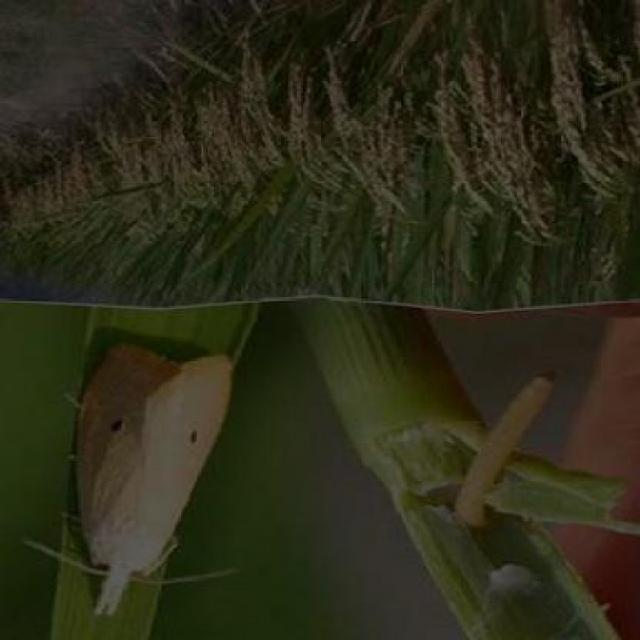stem-borer: (29, 338, 245, 618)
